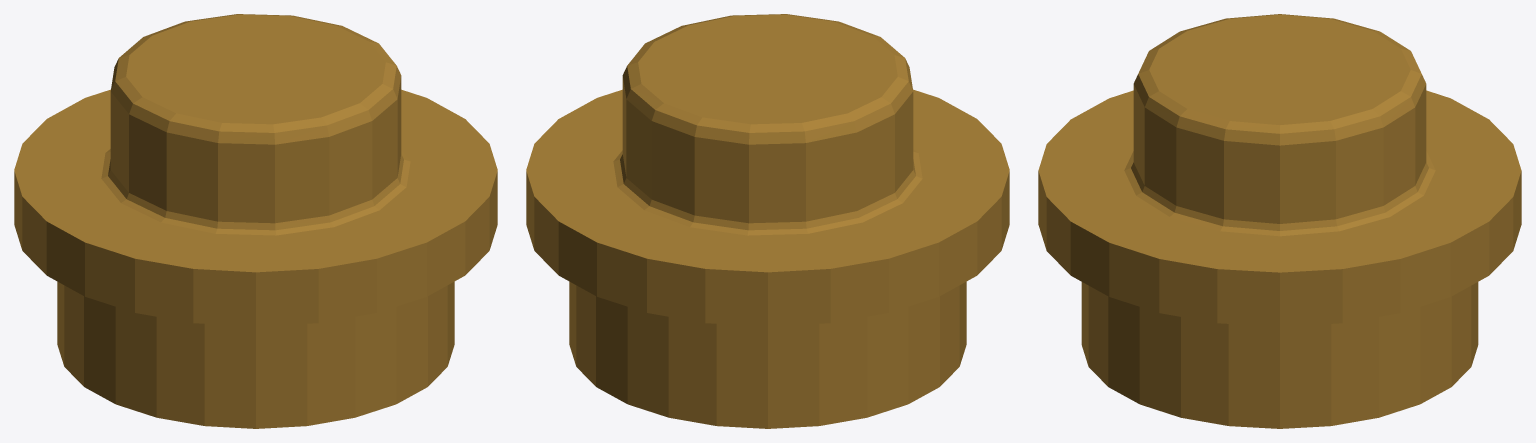
File: stud.obj
3 views of the same model, side by side, from view 1: azimuth 30°, elevation 25°; view 2: azimuth 150°, elevation 25°; view 3: azimuth 270°, elevation 25° (orthographic).
Visible parts, largest first — view 1: Part.1; view 2: Part.1; view 3: Part.1.
Part boxes in pixels (left/top/right/bottom): Part.1: left=14, top=14, right=497, bottom=428; Part.1: left=526, top=14, right=1009, bottom=428; Part.1: left=1038, top=14, right=1521, bottom=428.
Bounding box in the file's own units: 7.92 × 4.98 × 7.92.
